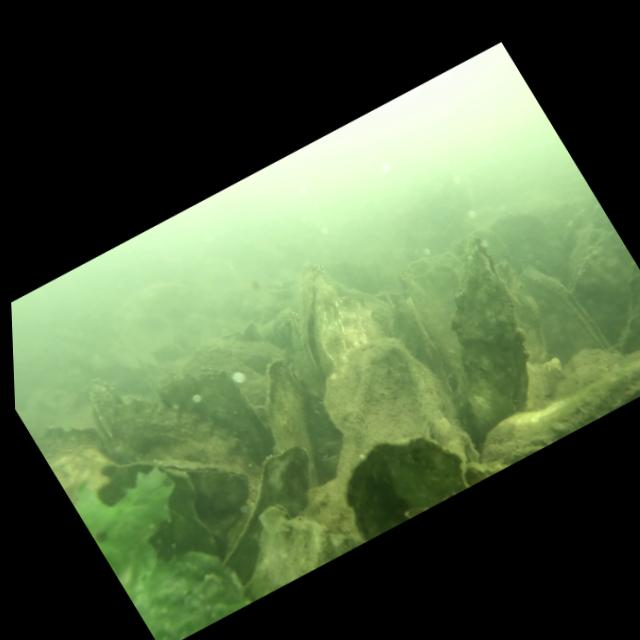Oyster-Closed: (377, 225, 580, 458), (71, 325, 262, 533), (464, 315, 640, 489), (96, 402, 260, 562), (214, 473, 359, 609), (149, 344, 279, 488), (499, 249, 616, 385), (551, 226, 640, 361), (257, 300, 328, 382)
Oyster-Indeterminate: (277, 316, 483, 532), (182, 430, 355, 598), (321, 404, 479, 551), (392, 238, 517, 387), (230, 350, 345, 487)
Oyster-Open: (263, 235, 412, 391)
